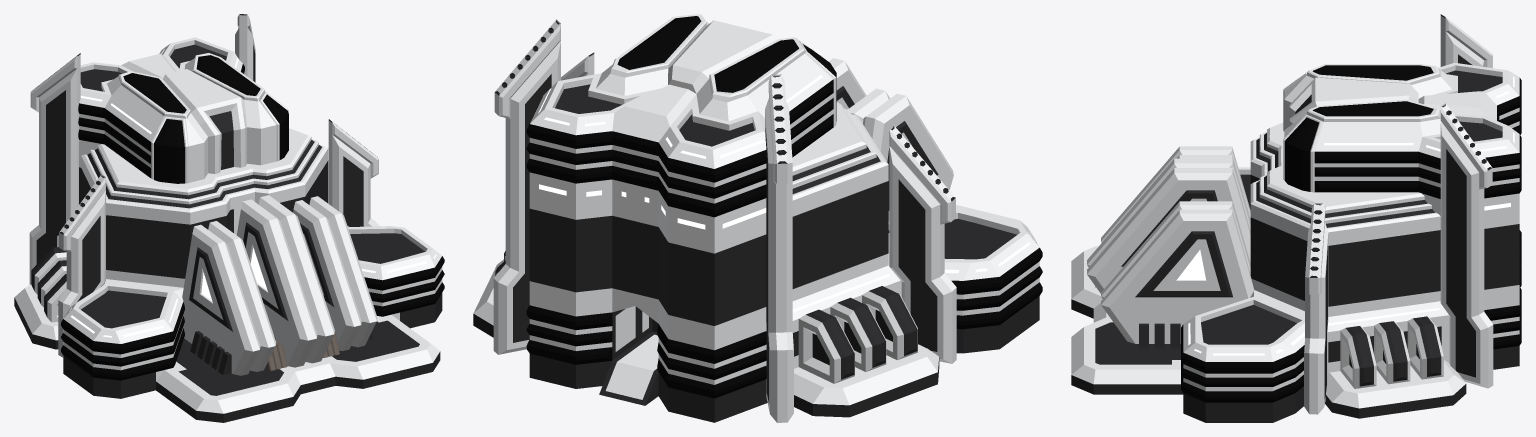
Rendered from cellfactory.glb.
3 renders of one model, left to right at view 1: azimuth 30°, elevation 25°; view 2: azimuth 150°, elevation 25°; view 3: azimuth 270°, elevation 25°, orthographic. The views are drawn at different scales.
Parts seen in each view (by area): view 1: EnergyCellFactory_Generator, EnergyCellFactory_UpperBody, EnergyCellFactory_Body, EnergyCellFactory_Foundation, EnergyCellFactory_Chimney, EnergyCellFactory_SideRooms, EnergyCellFactory_SideParts; view 2: EnergyCellFactory_UpperBody, EnergyCellFactory_Chimney, EnergyCellFactory_Body, EnergyCellFactory_Foundation, EnergyCellFactory_SideRooms, EnergyCellFactory_SideParts, EnergyCellFactory_Generator; view 3: EnergyCellFactory_UpperBody, EnergyCellFactory_Body, EnergyCellFactory_Generator, EnergyCellFactory_Chimney, EnergyCellFactory_Foundation, EnergyCellFactory_SideRooms, EnergyCellFactory_SideParts.
Part boxes in pixels (box(x1,y1,x2,y2)): EnergyCellFactory_Generator: box(182, 195, 377, 375); EnergyCellFactory_UpperBody: box(78, 37, 288, 204); EnergyCellFactory_Body: box(81, 128, 328, 287); EnergyCellFactory_Foundation: box(14, 284, 442, 422); EnergyCellFactory_Chimney: box(29, 14, 379, 357); EnergyCellFactory_SideRooms: box(61, 226, 444, 380); EnergyCellFactory_SideParts: box(31, 247, 66, 322); EnergyCellFactory_UpperBody: box(526, 14, 836, 398); EnergyCellFactory_Chimney: box(493, 19, 956, 422); EnergyCellFactory_Body: box(639, 102, 901, 368); EnergyCellFactory_Foundation: box(473, 205, 1039, 422); EnergyCellFactory_SideRooms: box(888, 209, 1042, 329); EnergyCellFactory_SideParts: box(495, 251, 917, 383); EnergyCellFactory_Generator: box(819, 54, 953, 220); EnergyCellFactory_UpperBody: box(1283, 62, 1521, 349); EnergyCellFactory_Body: box(1250, 122, 1449, 372); EnergyCellFactory_Generator: box(1087, 146, 1254, 348); EnergyCellFactory_Chimney: box(1304, 14, 1493, 414); EnergyCellFactory_Foundation: box(1071, 246, 1519, 422); EnergyCellFactory_SideRooms: box(1181, 167, 1304, 402); EnergyCellFactory_SideParts: box(1340, 316, 1443, 388).
Size of the model in its own units: 2020 by 1320 by 2010.
1 material, 1 textured.
